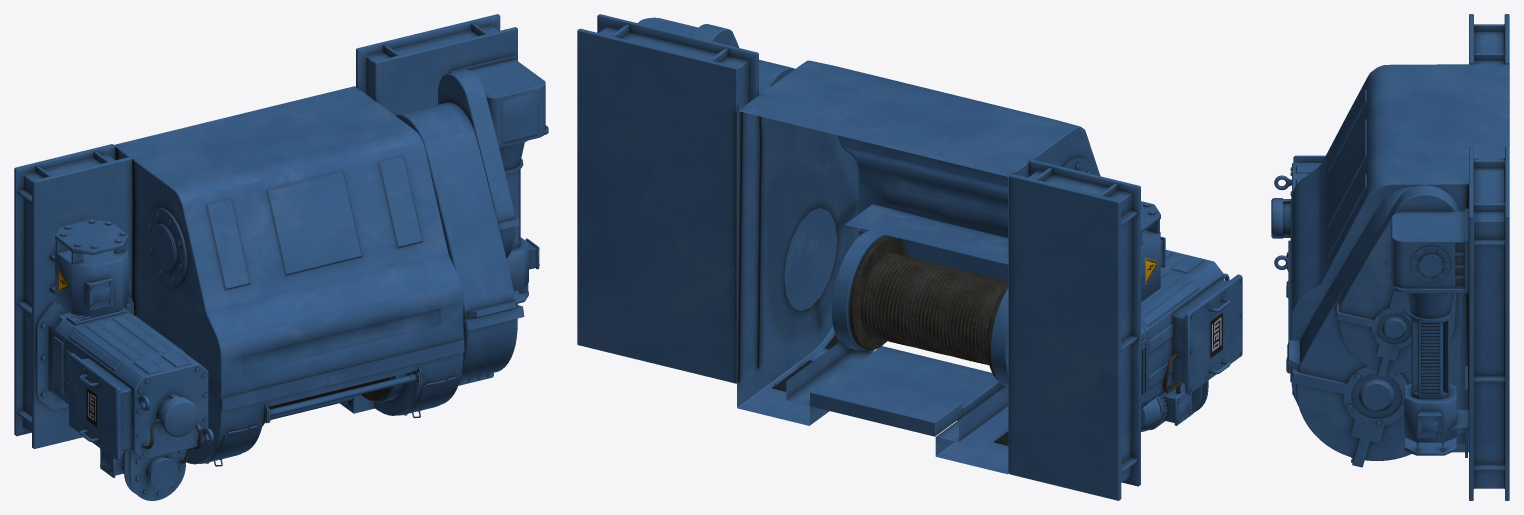
The model's file is Rig_Drawworks.obj.
3 renders of one model, left to right at view 1: azimuth 30°, elevation 25°; view 2: azimuth 150°, elevation 25°; view 3: azimuth 270°, elevation 25°, orthographic. The views are drawn at different scales.
Visible parts, largest first — view 1: Block_1_pivot, Block_2_pivot, Coil_pivot; view 2: Block_2_pivot, Block_1_pivot, Coil_pivot; view 3: Block_2_pivot, Block_1_pivot.
Boxes of the visible parts, box(x1,y1,x2,y2) form: Block_1_pivot: box(114, 86, 464, 466); Block_2_pivot: box(14, 14, 548, 500); Coil_pivot: box(262, 376, 392, 426); Block_2_pivot: box(577, 14, 1242, 500); Block_1_pivot: box(737, 60, 1100, 474); Coil_pivot: box(849, 236, 1008, 380); Block_2_pivot: box(1271, 14, 1509, 500); Block_1_pivot: box(1286, 64, 1509, 452).
Bounding box in the file's own units: 340 × 203 × 140.
3 materials, 3 textured.
